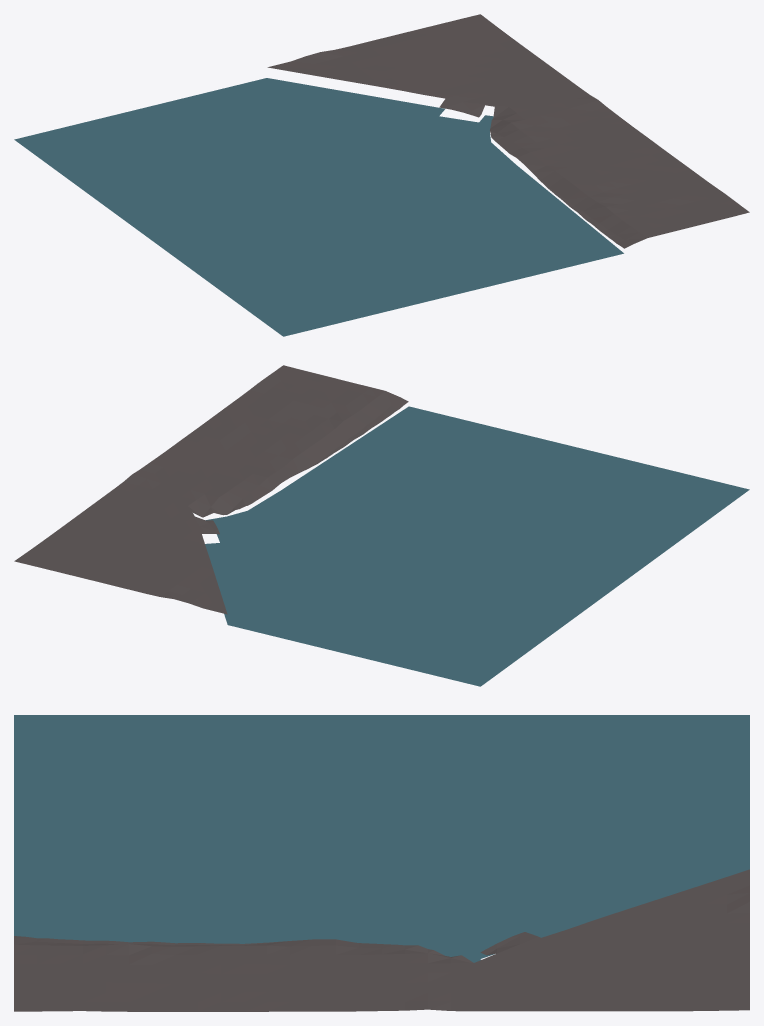
The picture shows the model from 3 angles, top to bottom: view 1: azimuth 30°, elevation 25°; view 2: azimuth 150°, elevation 25°; view 3: azimuth 270°, elevation 25°; orthographic projection. The views are drawn at different scales.
Parts seen in each view (by area): view 1: c_m12_p11; view 2: c_m12_p11; view 3: c_m12_p11.
Part boxes in pixels (x1,y1,x2,y2): c_m12_p11: (14, 14, 749, 336); c_m12_p11: (14, 365, 749, 686); c_m12_p11: (14, 715, 749, 1011).
Bounding box in the file's own units: 128 × 3.35 × 128.
